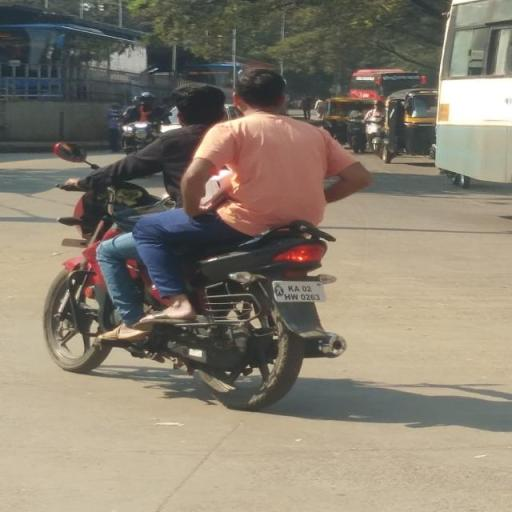bike: (40, 64, 366, 412)
numberplate: (274, 279, 326, 303)
withouthelmet: (236, 69, 288, 114), (174, 85, 225, 128)
